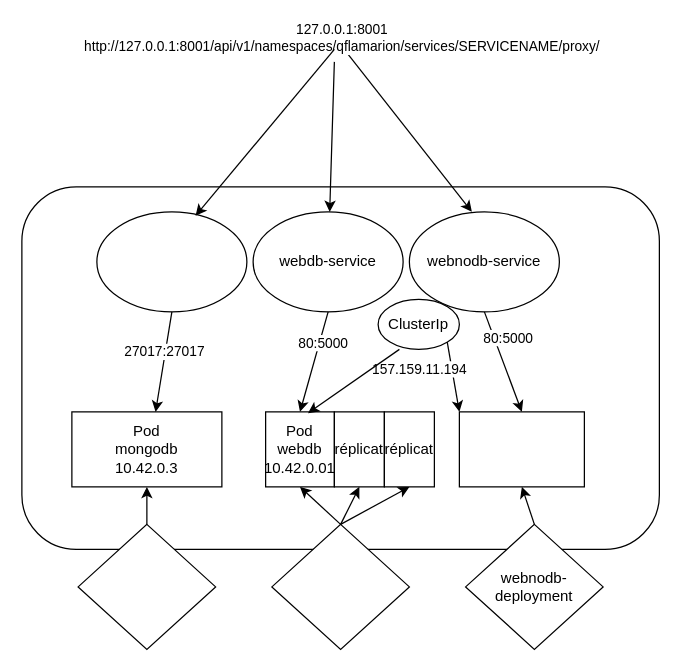
The diagram is 681 pixels wide and 671 high, and some of its shapes have lost their labels. The centre of each missing label's shape, as x and y in pixels:
mongodb-deployment: point 146,586
mongodb-service: point 171,261
Pod webnodb 10.42.2.2: point 521,449
webdb-deployment: point 340,586
